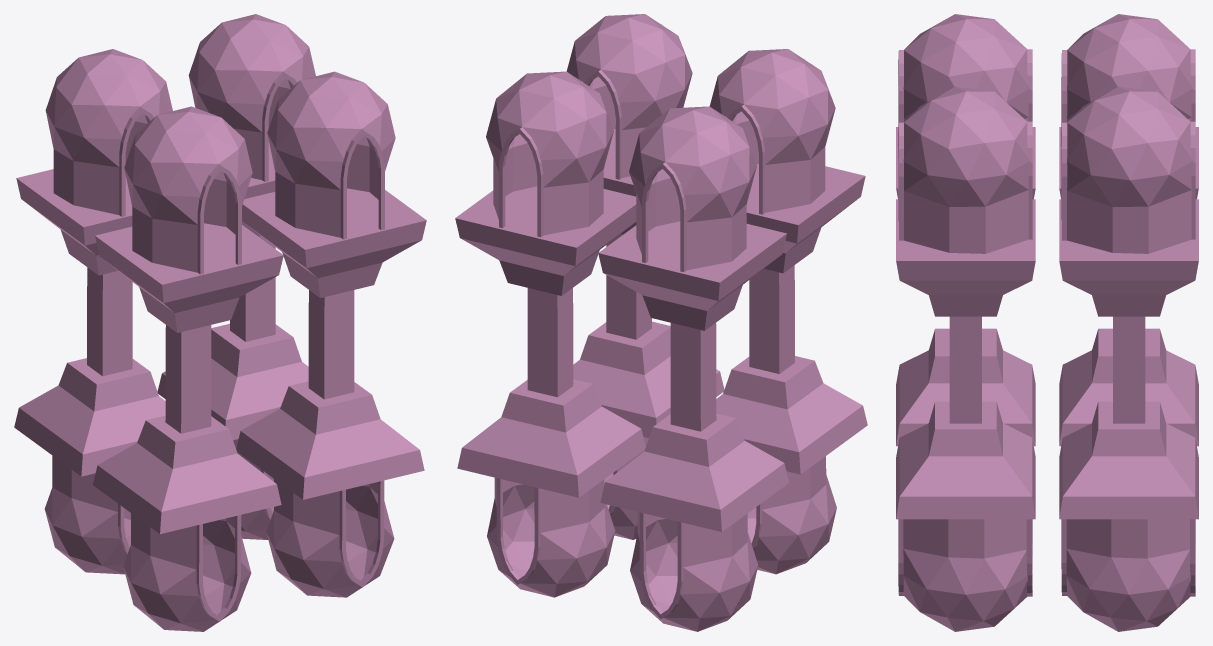
Rendered from temple.fbx.
The picture shows the model from 3 angles, left to right: view 1: azimuth 30°, elevation 25°; view 2: azimuth 150°, elevation 25°; view 3: azimuth 270°, elevation 25°; orthographic projection. The views are drawn at different scales.
Visible parts, largest first — view 1: temple; view 2: temple; view 3: temple.
Part boxes in pixels (x1=…): temple: x1=14, y1=14, x2=426, y2=631; temple: x1=455, y1=14, x2=867, y2=631; temple: x1=896, y1=14, x2=1198, y2=631.
Bounding box in the file's own units: 20.8 × 38.48 × 19.7.
